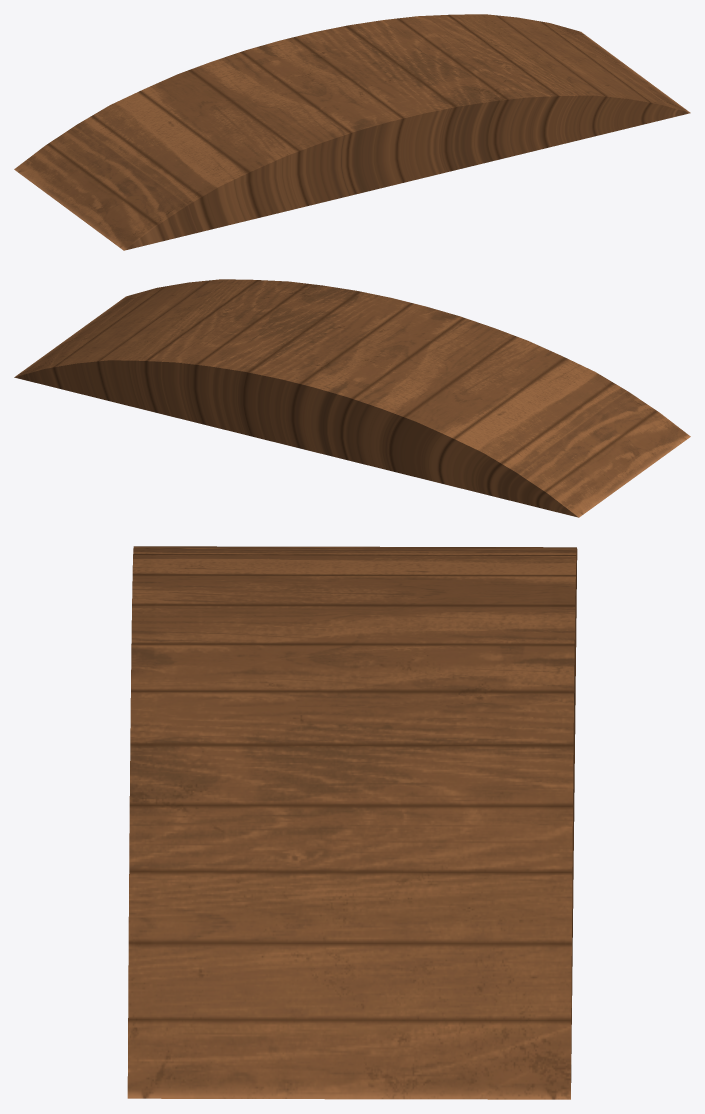
File: big_bridge_col.fbx
3 views of the same model, one above another, from view 1: azimuth 30°, elevation 25°; view 2: azimuth 150°, elevation 25°; view 3: azimuth 270°, elevation 25° (orthographic). The views are drawn at different scales.
Parts seen in each view (by area): view 1: Big_Bridge.001; view 2: Big_Bridge.001; view 3: Big_Bridge.001.
Part boxes in pixels (box(x1,y1,x2,y2)): Big_Bridge.001: box(14, 14, 690, 250); Big_Bridge.001: box(14, 279, 690, 517); Big_Bridge.001: box(127, 546, 577, 1099).
Bounding box in the file's own units: 735 × 80.31 × 252.
